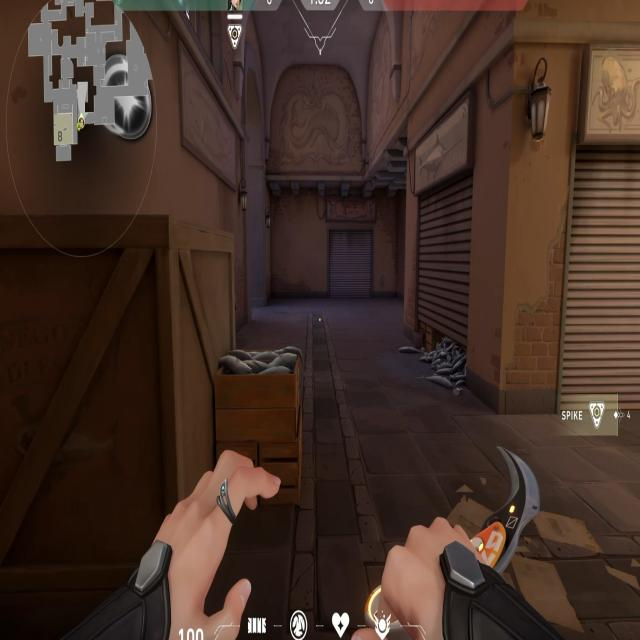B_Main_Corner: (393, 128, 484, 380)
